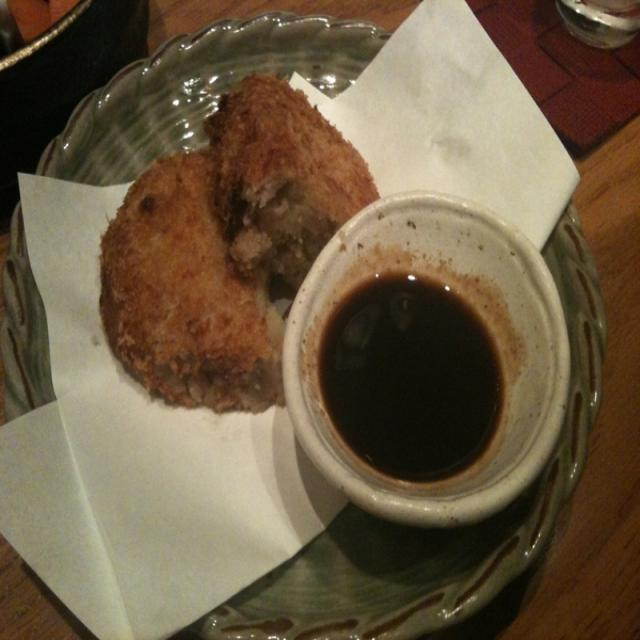炸货点心: (102, 72, 372, 406)
